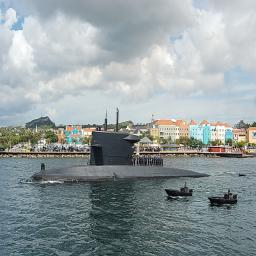submarine: (26, 107, 211, 184)
